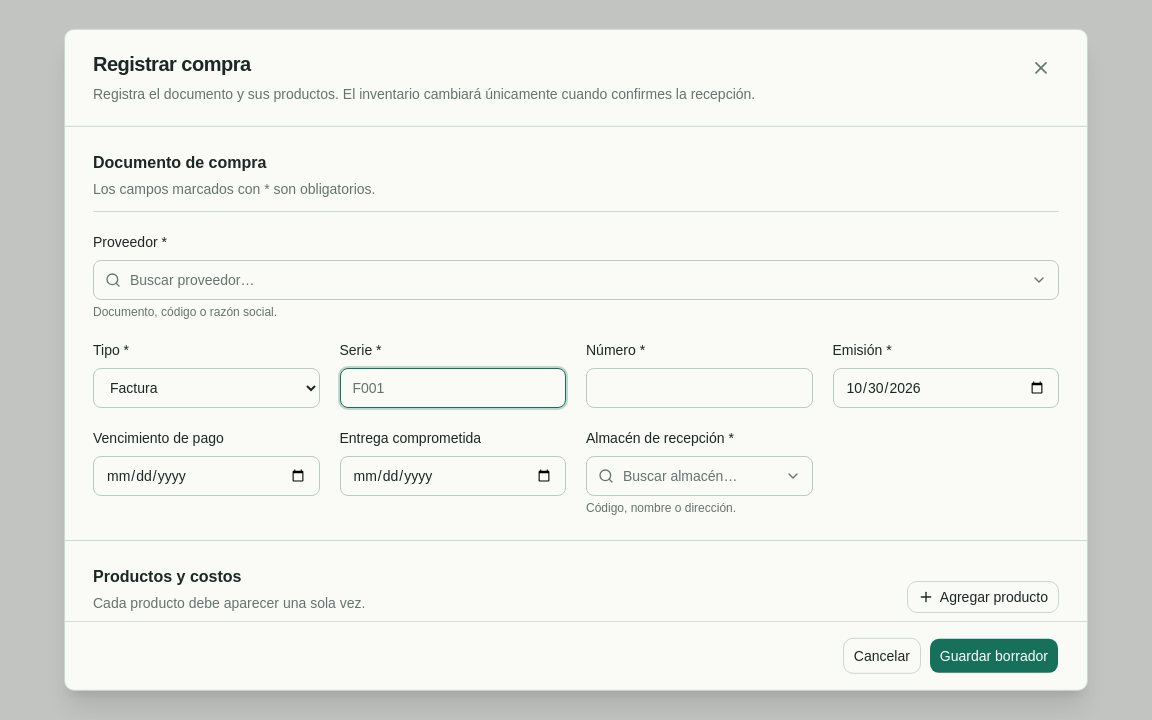
it: DialogoCompra › exige seleccionar explícitamente el almacén y permite buscarlo por dirección
In the dropdown labelled "Almacén de recepción": coordinates (699, 476) left=586, top=456, right=812, bottom=496, type "principal 100"
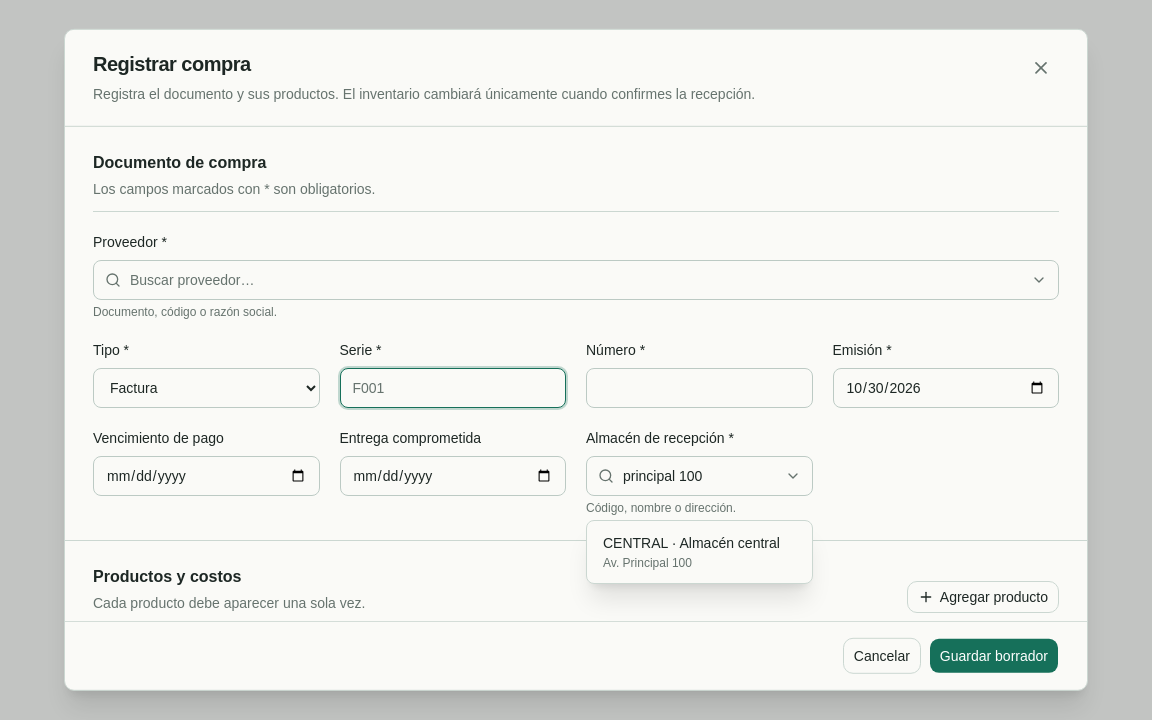
Click the option "CENTRAL · Almacén central Av. Principal 100": coordinates (692, 552) left=591, top=525, right=794, bottom=579
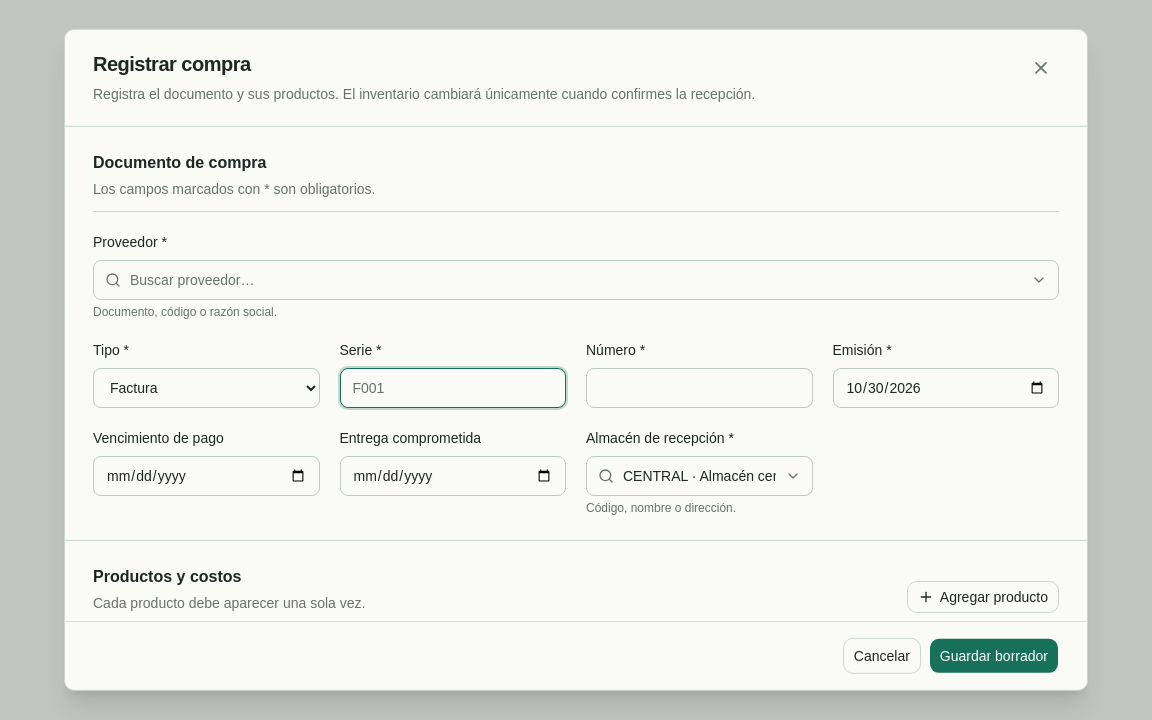
Check: the dropdown labelled "Almacén de recepción" holds "CENTRAL · Almacén central", box left=586, top=456, right=812, bottom=496
